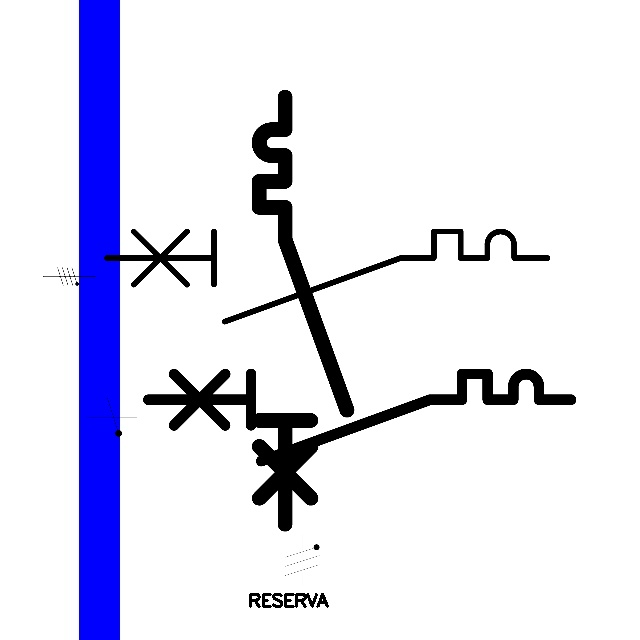interruptor_termomagnetico: (95, 220, 558, 333), (248, 86, 358, 535), (137, 363, 582, 472)
